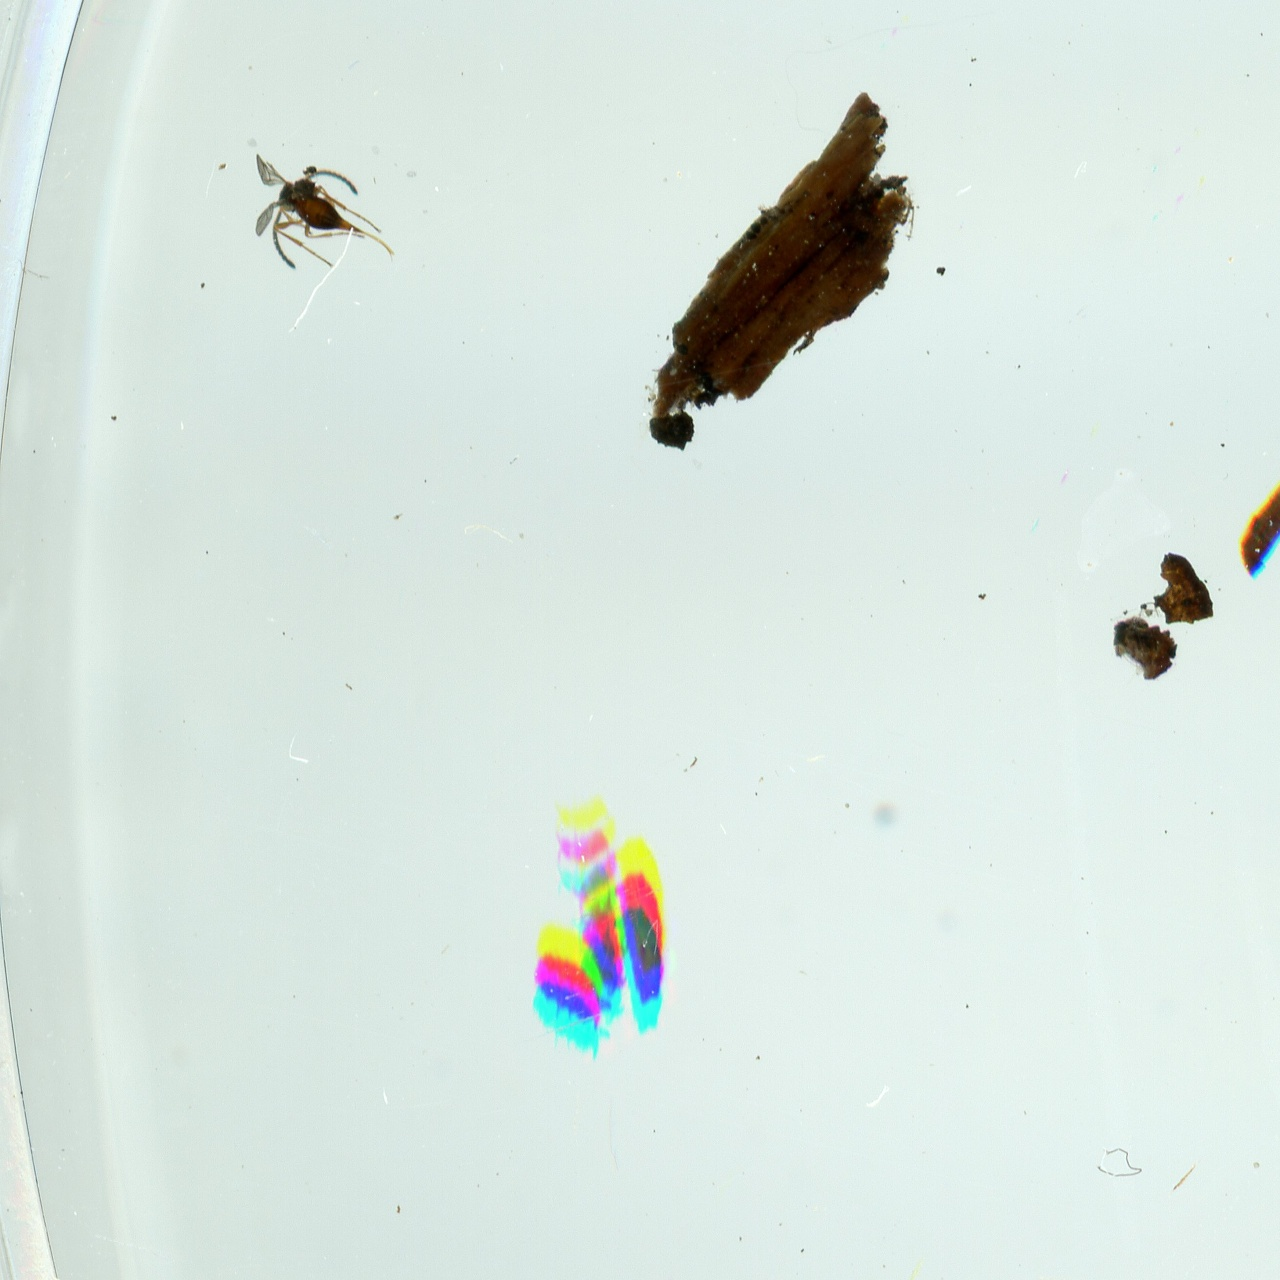arthropod: (246, 147, 403, 279), (530, 918, 617, 1066), (612, 834, 670, 1037), (566, 886, 644, 1002), (551, 798, 614, 891)
